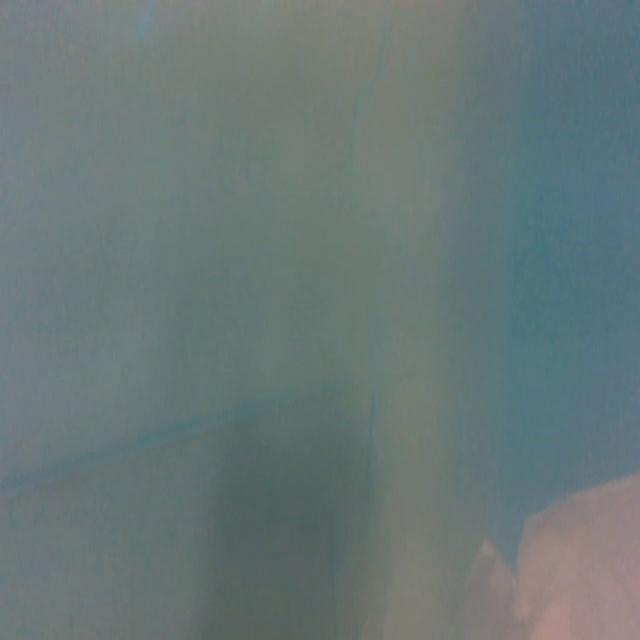plastic bags: (475, 484, 640, 640)
